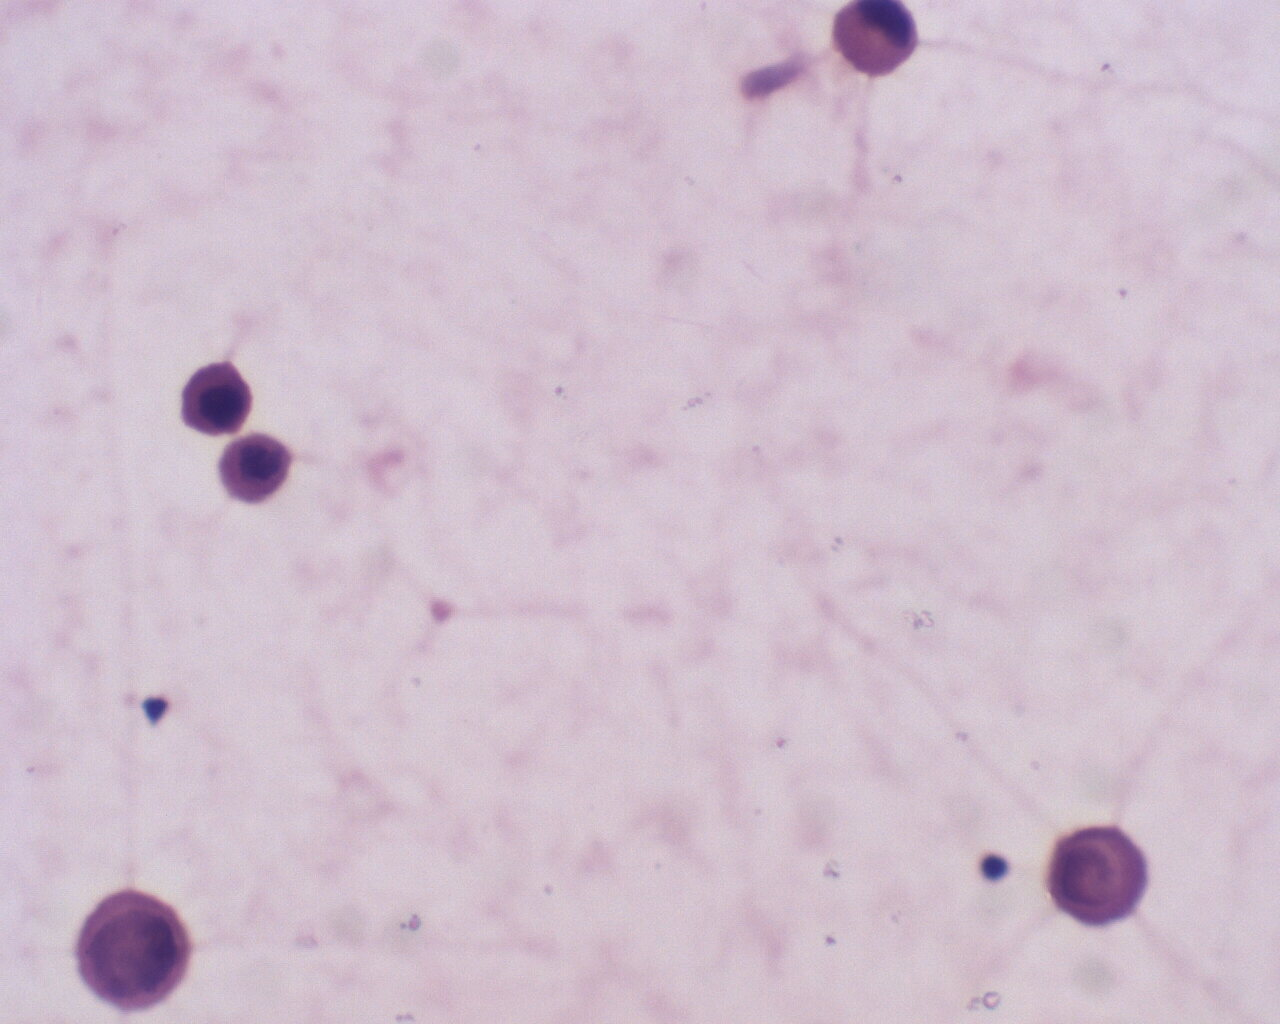ab: (73, 888, 197, 1014), (1044, 817, 1148, 931), (179, 358, 254, 437), (215, 432, 295, 506)
